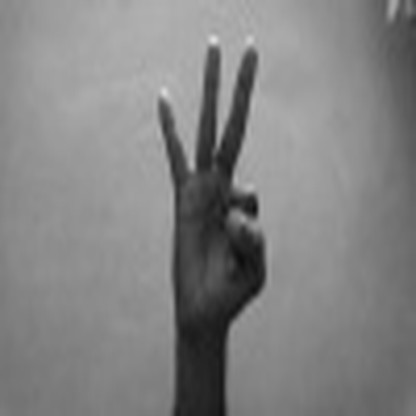f: (140, 35, 282, 311)
